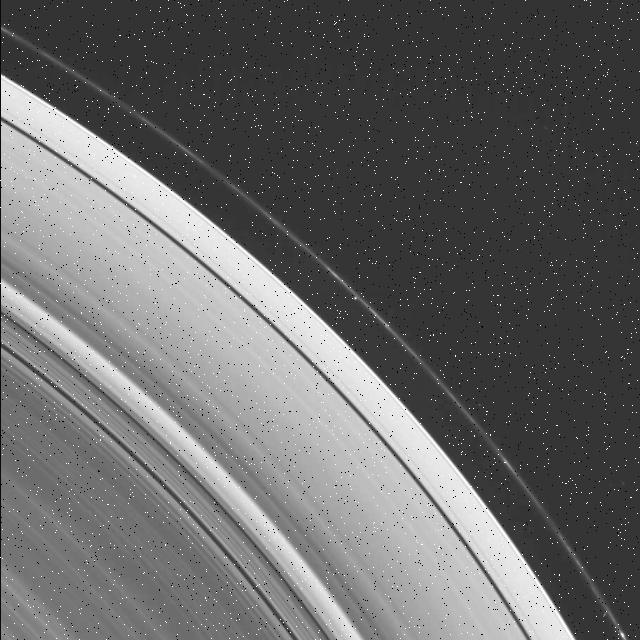Saturn: (1, 18, 638, 640)
